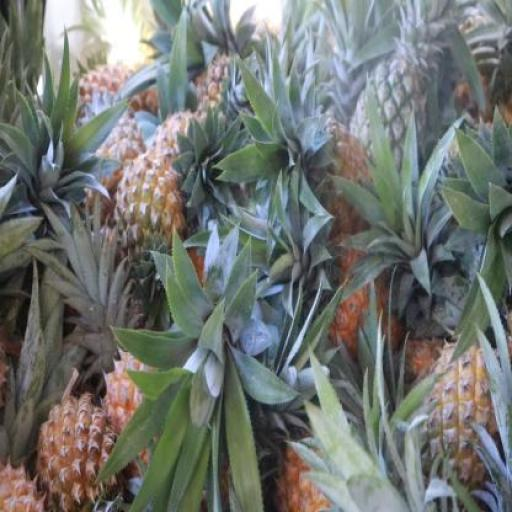------------------------------: (420, 348, 504, 500), (116, 148, 183, 282)
Pineapple - v8 v1: (36, 394, 114, 512)
